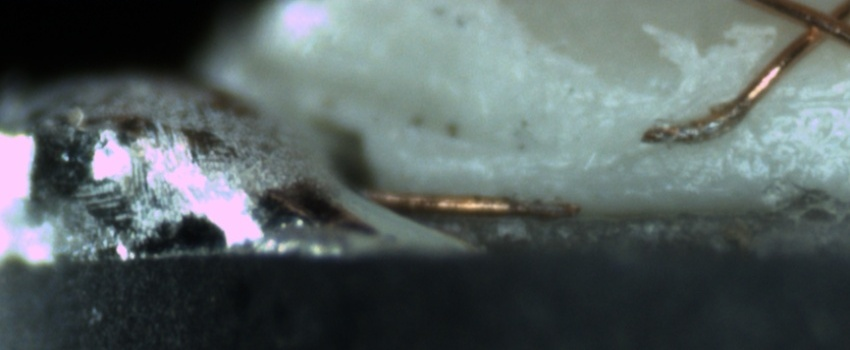CL: (777, 3, 846, 56)
DL: (607, 80, 850, 125)
